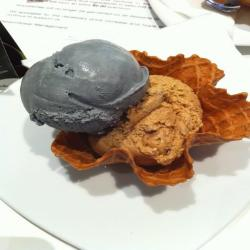icecream: (16, 38, 154, 147), (85, 69, 211, 168)
